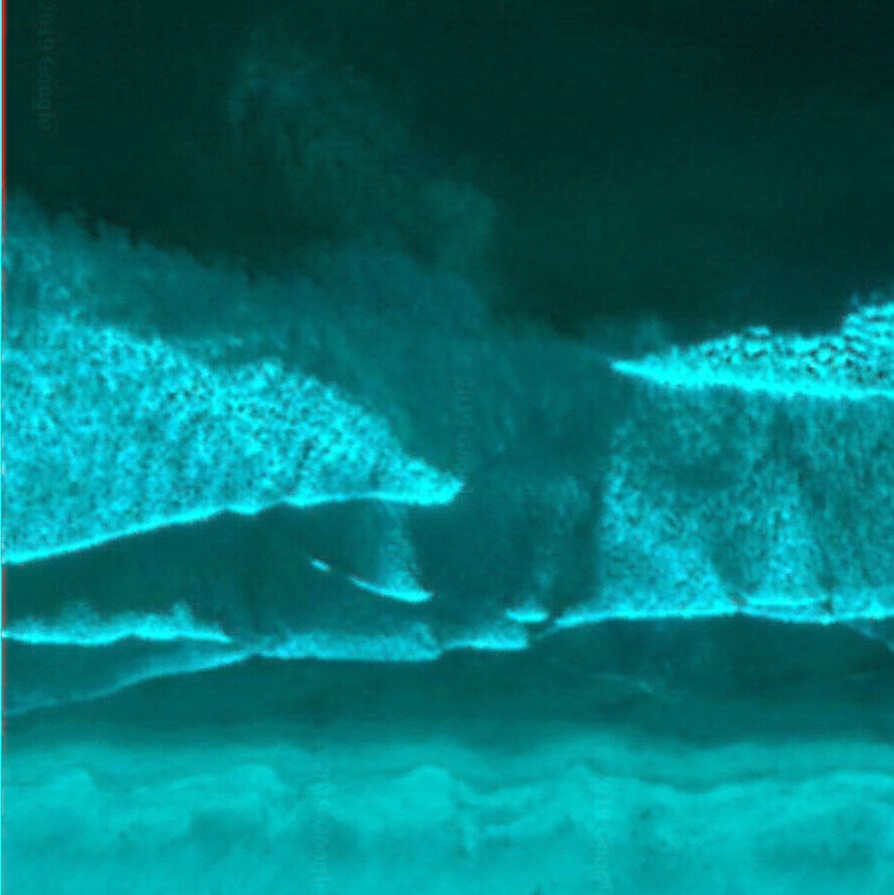rip_current: (232, 44, 637, 635)
